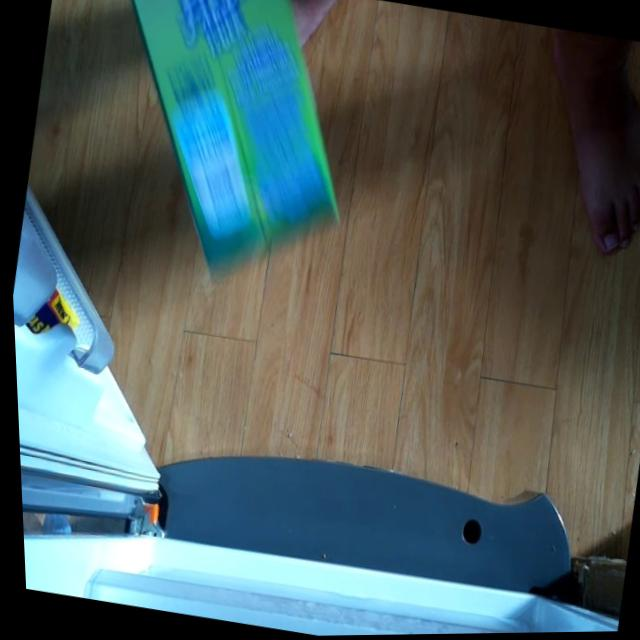milk: (68, 0, 381, 302)
